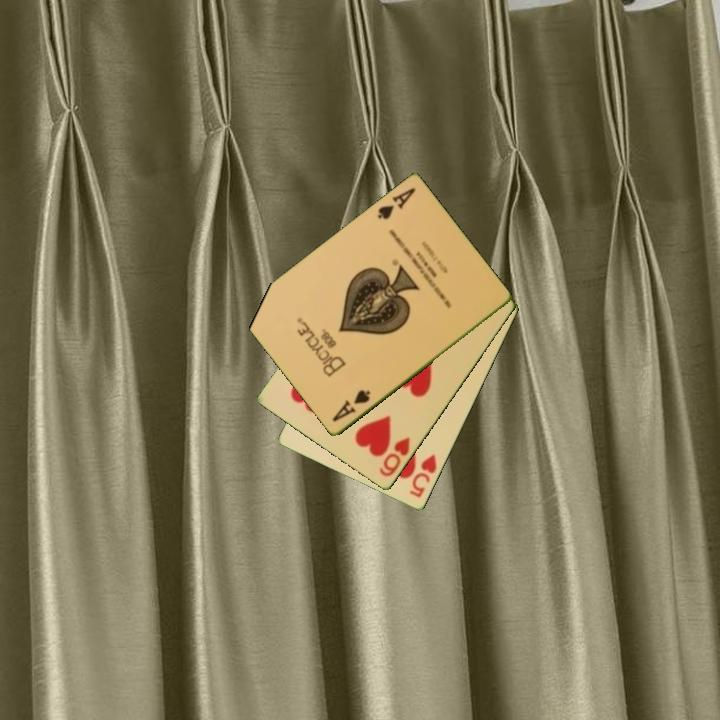5h: (406, 451, 440, 501)
6h: (376, 434, 413, 480)
As: (328, 386, 373, 425), (373, 185, 419, 223)
